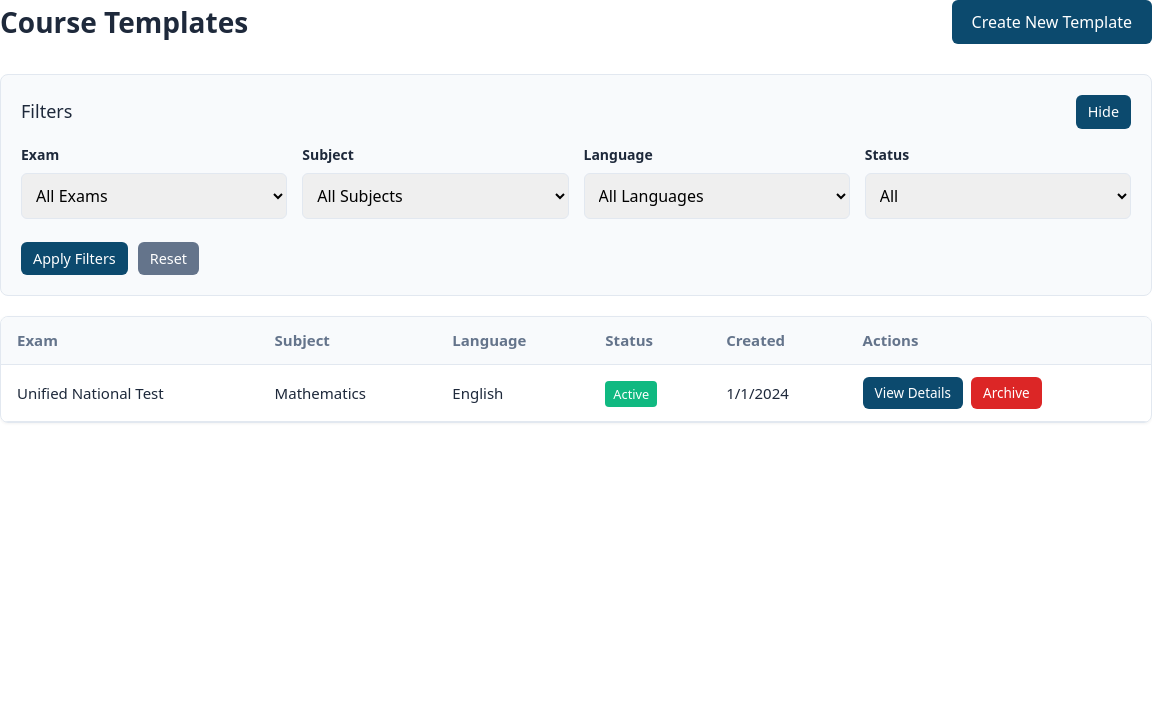
Test case: CourseTemplatePanel › successfully regenerates a level with custom prompt
This screenshot has width=1152, height=720.
Click the button "View Details" at (913, 393), box [863,377,963,409]
(page scrolled)
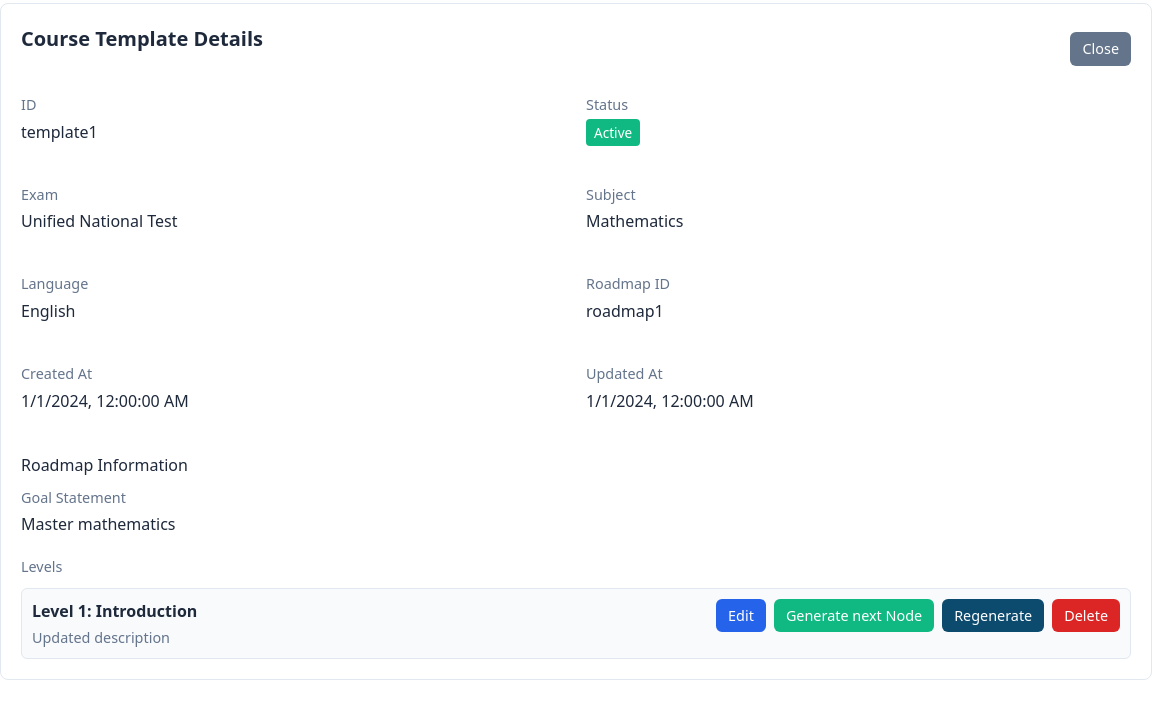
Check: the text "Level 1: Introduction" is shown, box [32,599,197,623]
Click the button "Regenerate" at (993, 616), box [942,599,1044,632]
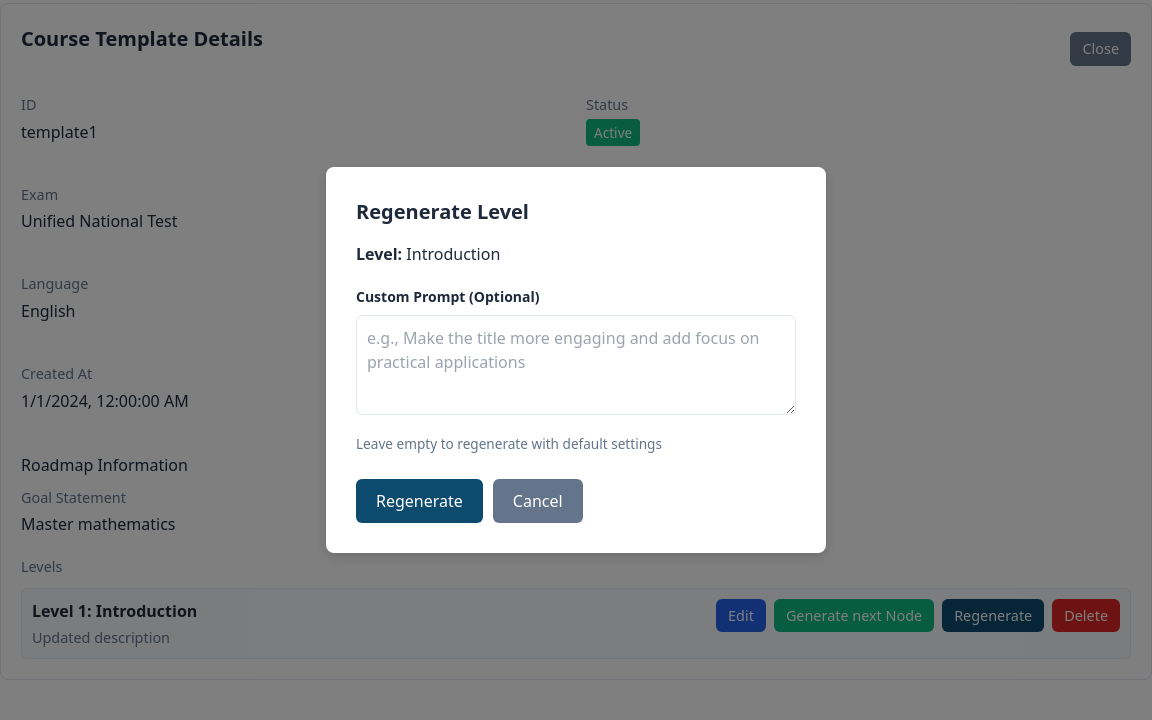
Check: the heading "Regenerate Level" is shown, box [356,198,529,225]
Replace the text in the text box with placeholder "Make the title more engaging" with "Make it more engaging" at (576, 365), box [356,315,796,415]
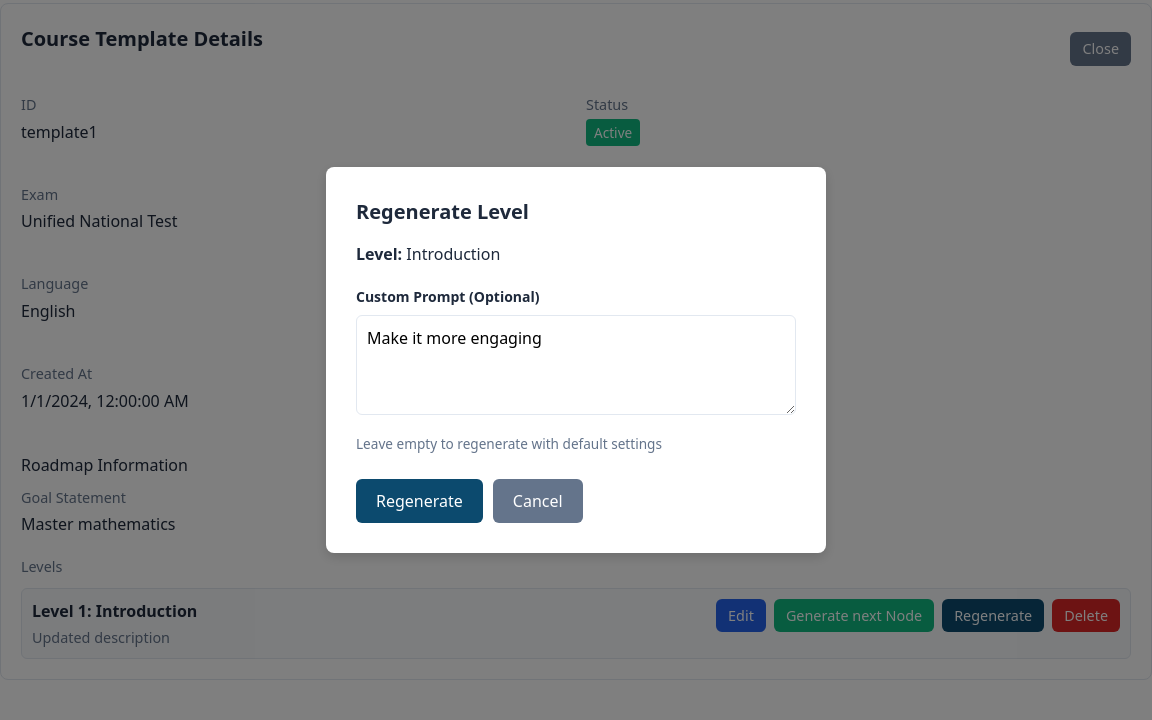
Click the button "Regenerate" at (419, 501), box [356,479,483,523]
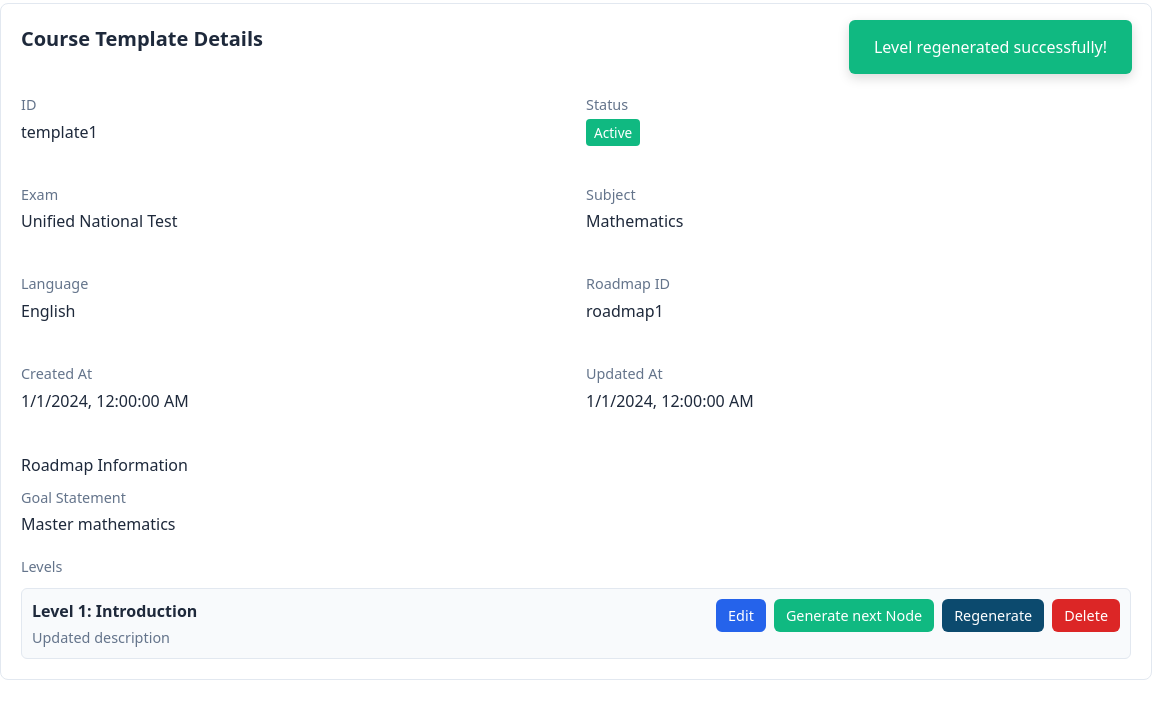
Check: the text "Level regenerated successfully!" is shown, box [849,20,1132,74]
